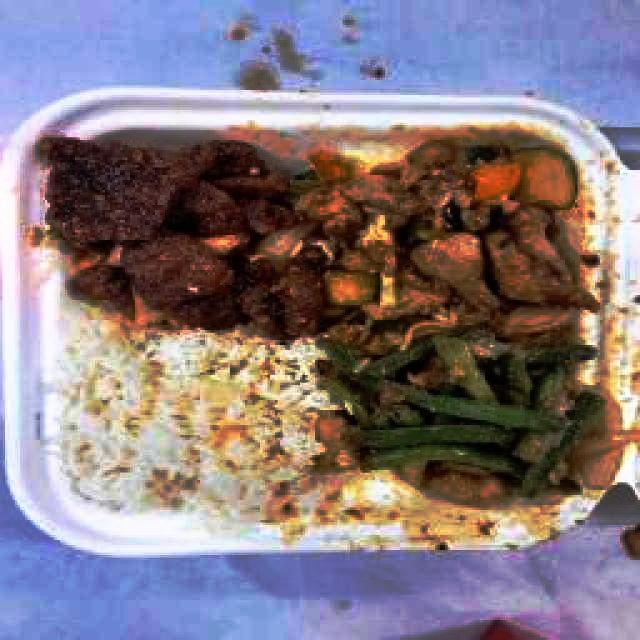Beijing Beef: (49, 136, 293, 320)
Kung Pao Chicken: (304, 142, 595, 336)
String Bean Chicken Breast: (321, 339, 605, 498)
rice: (64, 345, 308, 510)
